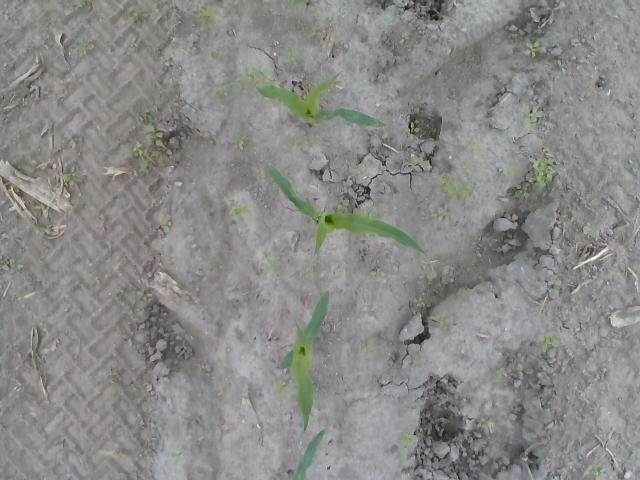Maize: (264, 160, 431, 262), (252, 66, 386, 129), (278, 291, 330, 448), (288, 429, 326, 480)
Weeds: (503, 152, 559, 199), (132, 104, 166, 176), (439, 174, 479, 208), (456, 135, 490, 174), (232, 67, 272, 88), (74, 31, 97, 65), (391, 431, 416, 461), (225, 198, 251, 226), (528, 331, 560, 353), (417, 206, 450, 222), (258, 250, 280, 273), (308, 14, 328, 39), (430, 312, 450, 337), (63, 0, 92, 17), (523, 106, 545, 128), (282, 45, 304, 66), (358, 333, 379, 354), (290, 0, 310, 22), (290, 132, 318, 146), (231, 129, 255, 145), (274, 378, 290, 400), (403, 121, 421, 139), (399, 30, 417, 46), (476, 414, 494, 430), (584, 466, 608, 478), (198, 3, 217, 17), (523, 40, 538, 57), (64, 166, 78, 184), (410, 152, 430, 164), (160, 214, 172, 234), (212, 85, 232, 97), (126, 304, 145, 316), (583, 224, 600, 236), (348, 160, 361, 175), (368, 270, 384, 282), (171, 449, 184, 463), (494, 366, 506, 381), (128, 14, 144, 25), (354, 207, 373, 216), (111, 450, 128, 460), (211, 260, 225, 272), (31, 199, 45, 210), (496, 23, 506, 38), (447, 281, 465, 289), (128, 39, 144, 48), (409, 366, 423, 376), (557, 59, 567, 73), (108, 372, 120, 383), (304, 267, 315, 279), (142, 289, 152, 302), (414, 296, 425, 307), (215, 355, 225, 367), (336, 198, 346, 210), (227, 0, 241, 8), (197, 366, 206, 378), (570, 38, 582, 47), (95, 275, 103, 288), (254, 166, 264, 176), (54, 439, 65, 448), (169, 254, 176, 264), (511, 255, 518, 260)
